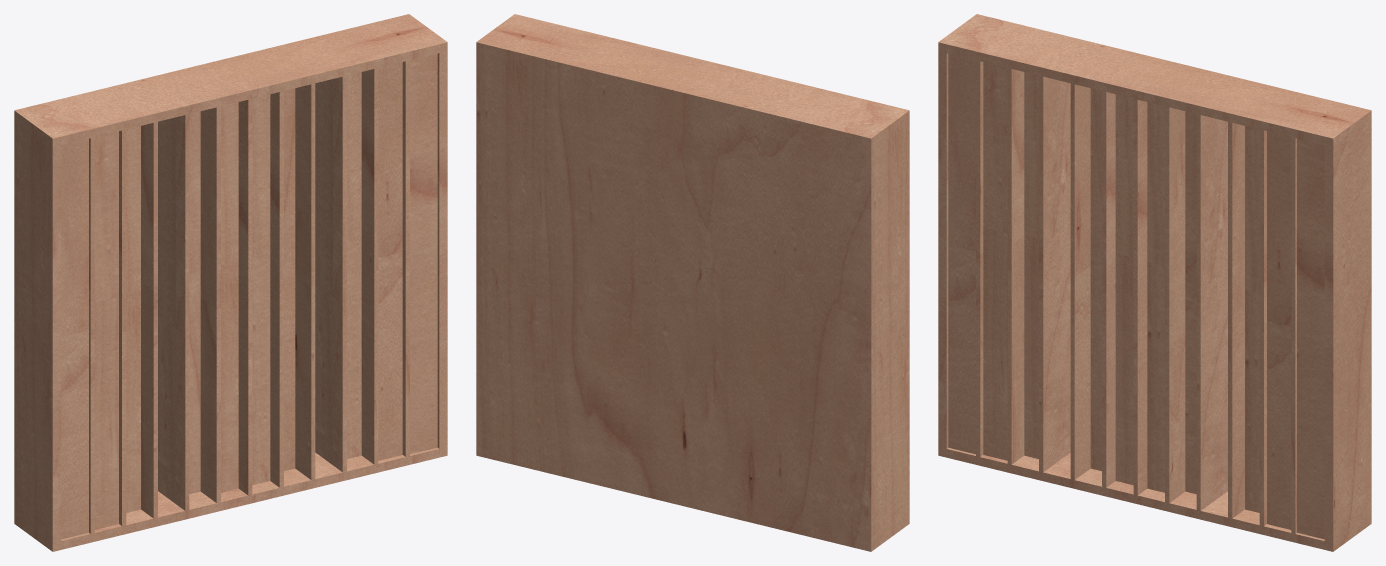
File: RQS1000.glb
3 views of the same model, side by side, from view 1: azimuth 30°, elevation 25°; view 2: azimuth 150°, elevation 25°; view 3: azimuth 330°, elevation 25° (orthographic).
Parts seen in each view (by area): view 1: Body1; view 2: Body1; view 3: Body1.
Part boxes in pixels (x1,y1,x2,y2): Body1: (14, 14, 447, 551); Body1: (476, 14, 909, 551); Body1: (938, 14, 1371, 551).
Size of the model in its own units: 23.62 by 23.62 by 4.
1 material, 1 textured.
